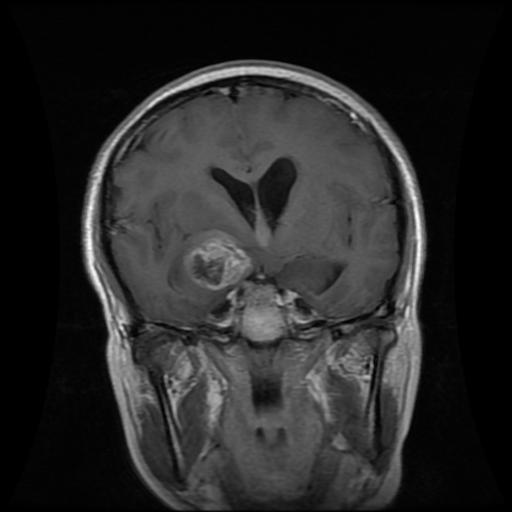Gliomia_tumour: (179, 230, 252, 289)
